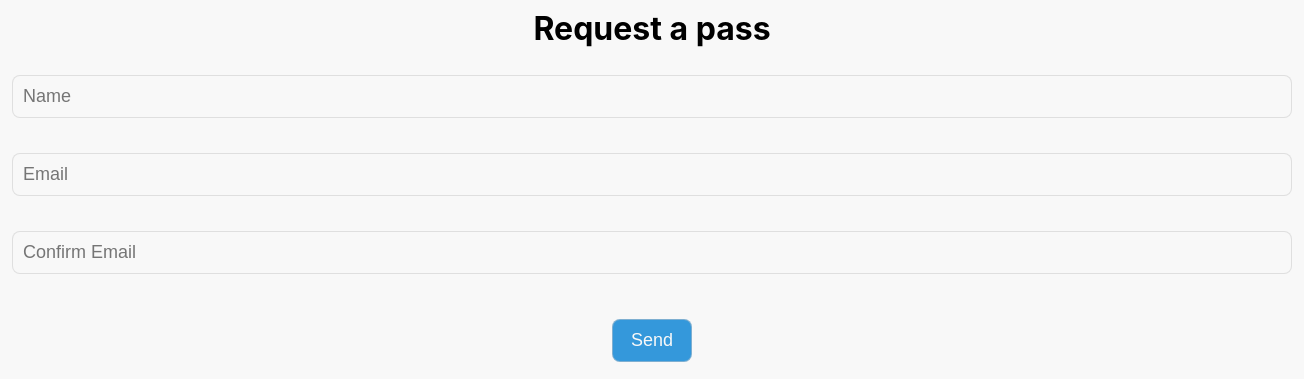
Scenario: RequestPassForm › Typing a number in the name input field will display an error
The width and height of the screenshot is (1304, 379).
Type "aa1" into the field labelled "Name" at (652, 96), box [12, 75, 1292, 118]
Then press Enter
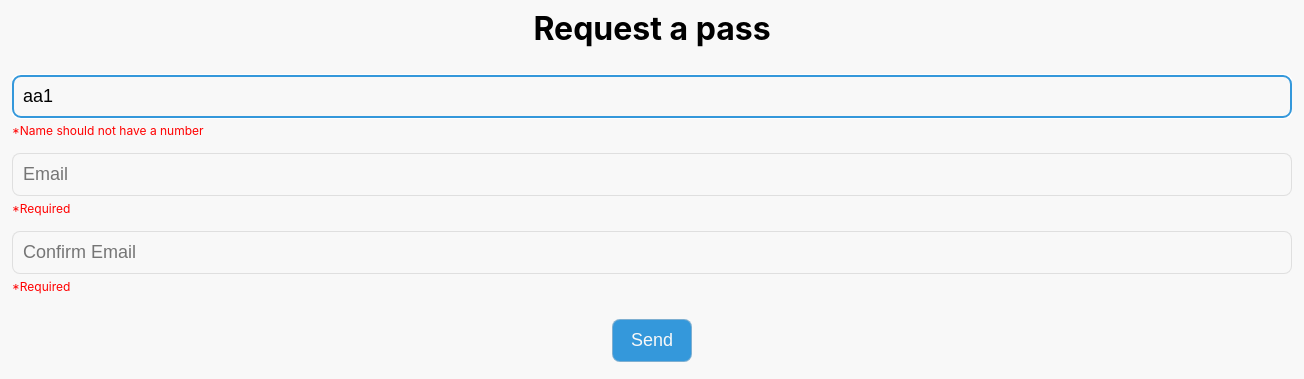
Now the text "*Name should not have a number" is shown, box [12, 123, 204, 138]
